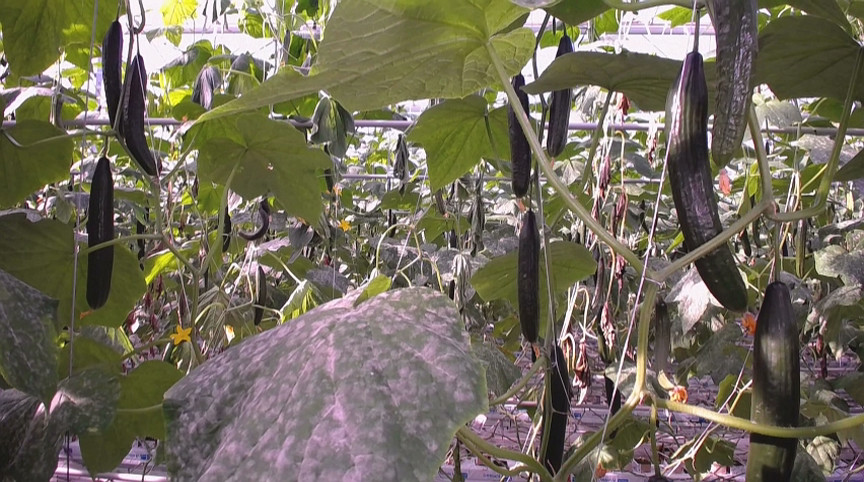cucumber: (669, 54, 748, 314), (750, 281, 800, 482), (711, 1, 759, 167), (85, 157, 114, 310), (546, 34, 575, 159), (127, 54, 157, 173), (542, 346, 569, 472), (517, 210, 539, 343), (102, 19, 124, 136), (510, 76, 529, 197), (253, 267, 265, 329)
